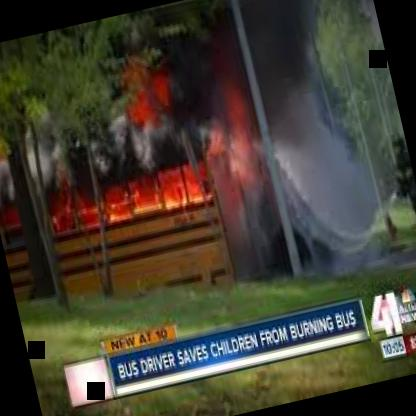fire: (0, 36, 299, 332)
